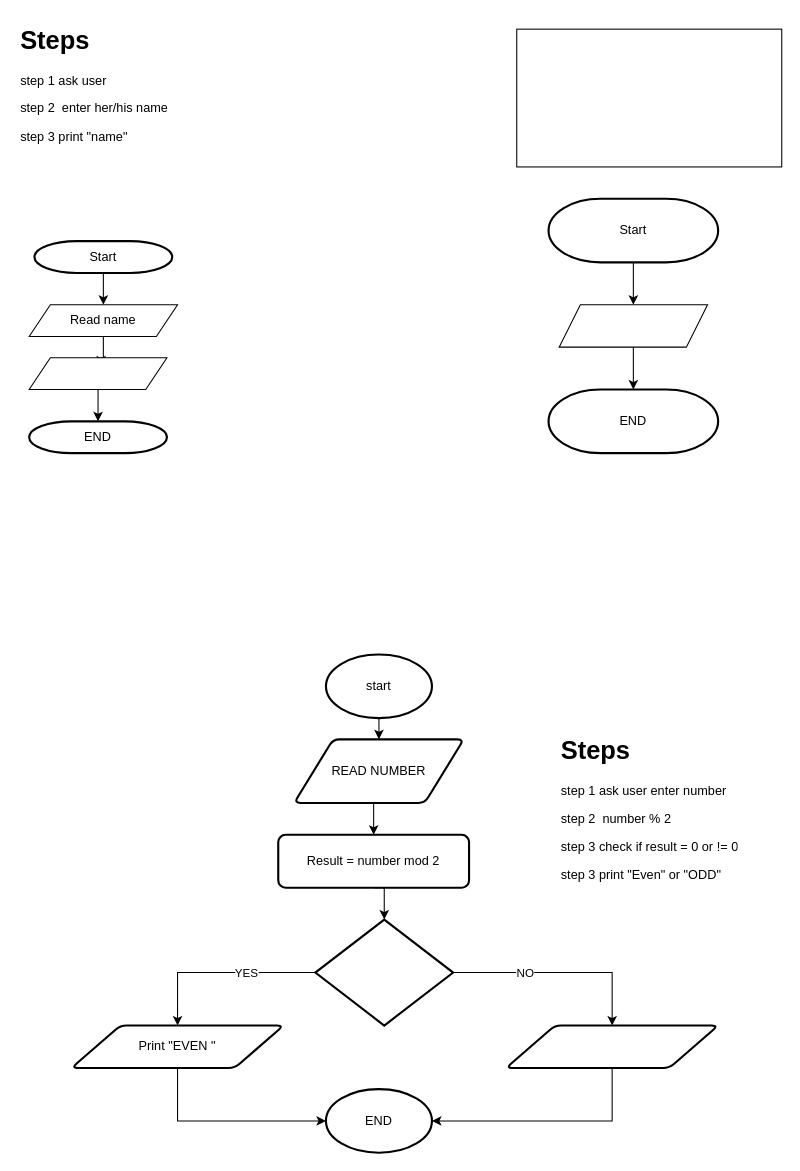
The diagram is 800 pixels wide and 1171 high, and some of its shapes have lost their labels. Each missing label, with the centre of its shape:
print "Mohammed": the point at 633,325
print "name": the point at 97,373
Print "ODD": the point at 612,1046
Result = 0: the point at 384,972
Steps step1 : print "Mohammed": the point at 649,97
